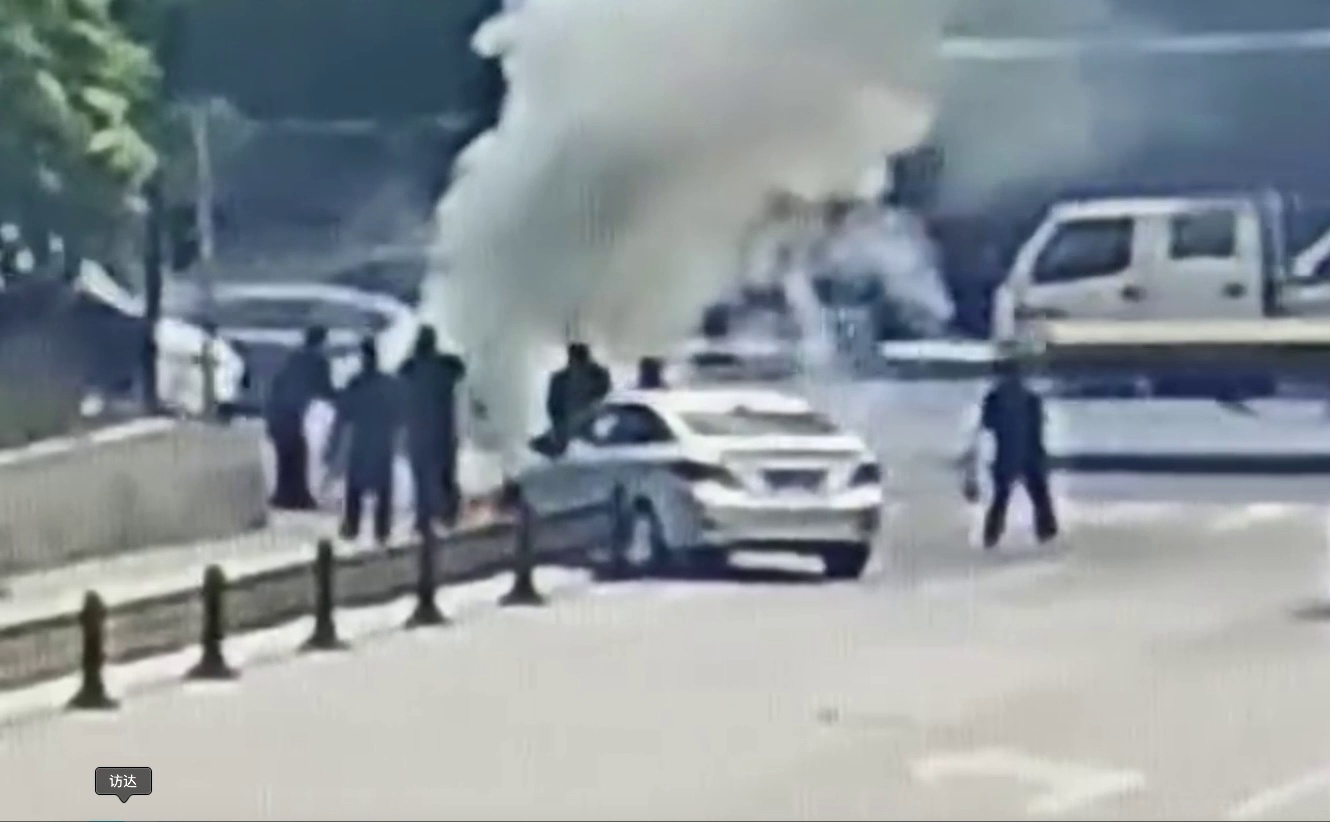smoke: (427, 46, 965, 440)
